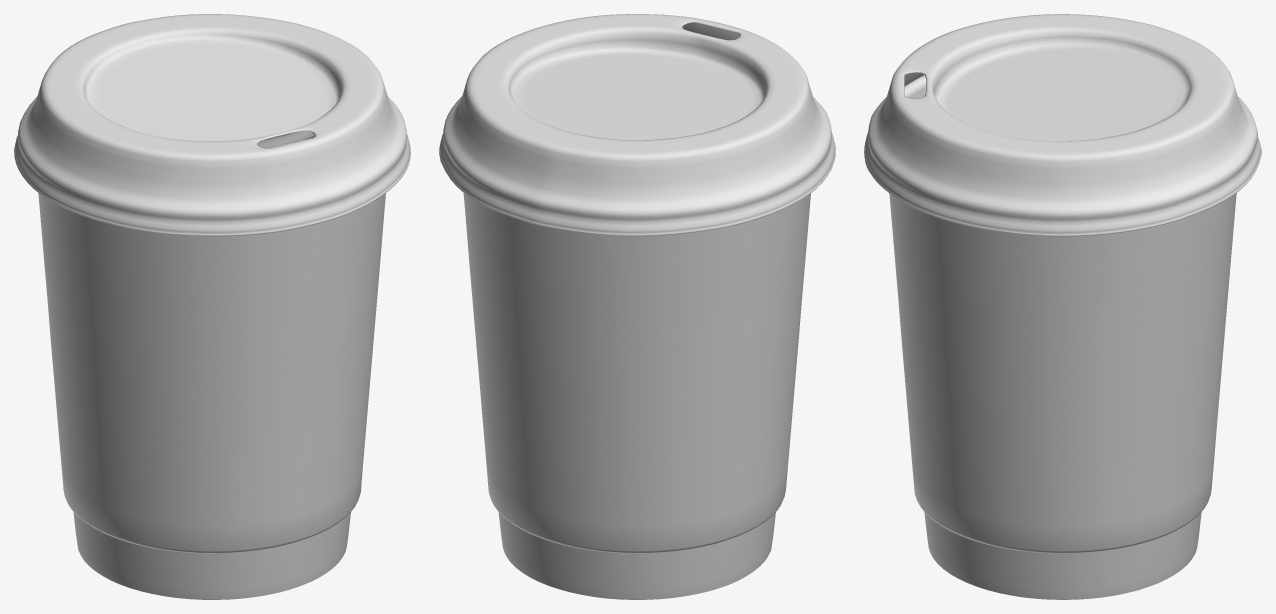
The picture shows the model from 3 angles, left to right: view 1: azimuth 30°, elevation 25°; view 2: azimuth 150°, elevation 25°; view 3: azimuth 270°, elevation 25°; orthographic projection.
Visible parts, largest first — view 1: models; view 2: models; view 3: models.
Boxes of the visible parts, <box> form: models: <box>14,14,410,599</box>; models: <box>439,14,835,599</box>; models: <box>864,14,1261,599</box>.
Size of the model in its own units: 0.0775 by 0.0986 by 0.0775.
Materials: 3 (2 with a texture image).
